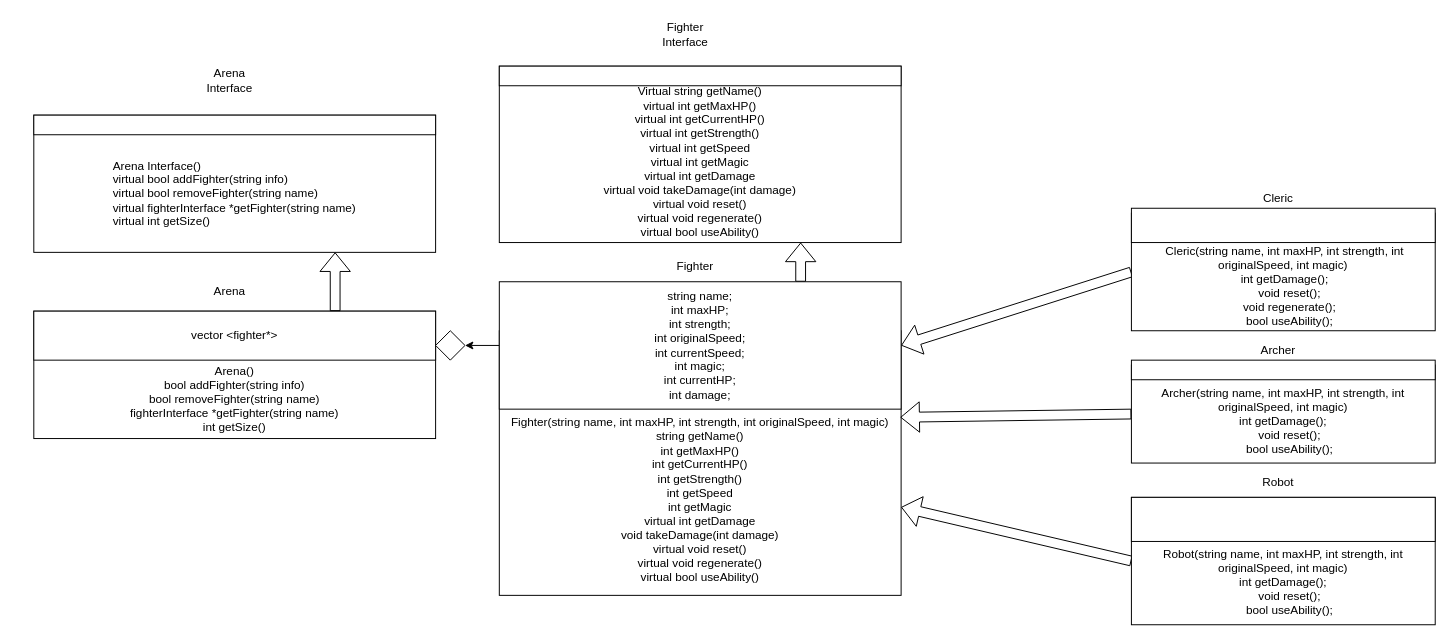
Image size: 1452x642. Some labels were removed from this diagram. Here are the shapes that lost their labels. From the top down, the box of each, then its label:
(1130, 207, 1435, 243): int maxMana; int currentMana;
(1130, 496, 1435, 541): int maxEnergy; int currentEnergy; int addedDamage;
